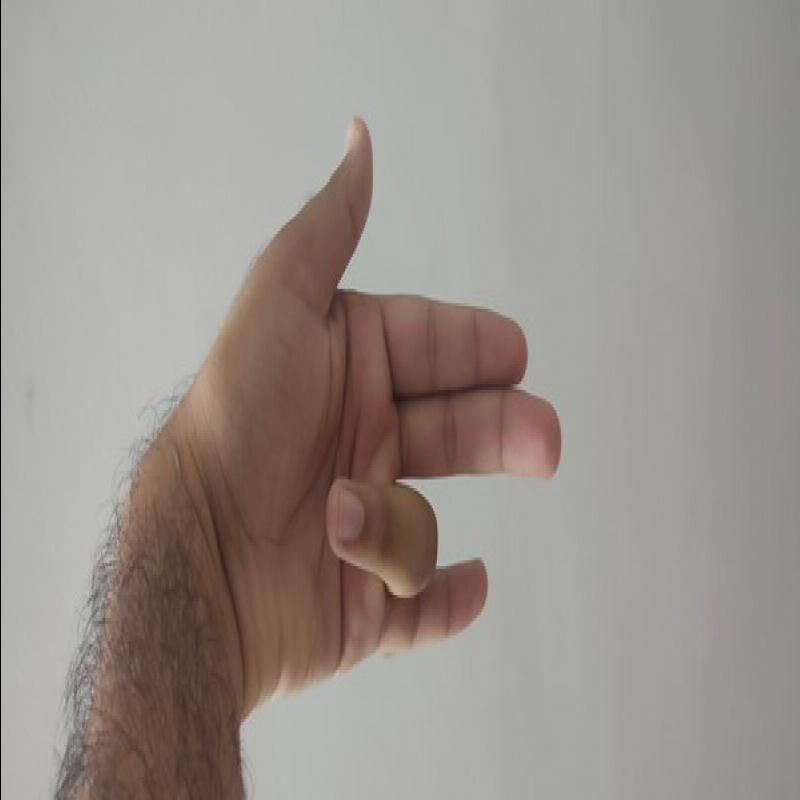Pathaaka: (215, 105, 578, 695)
